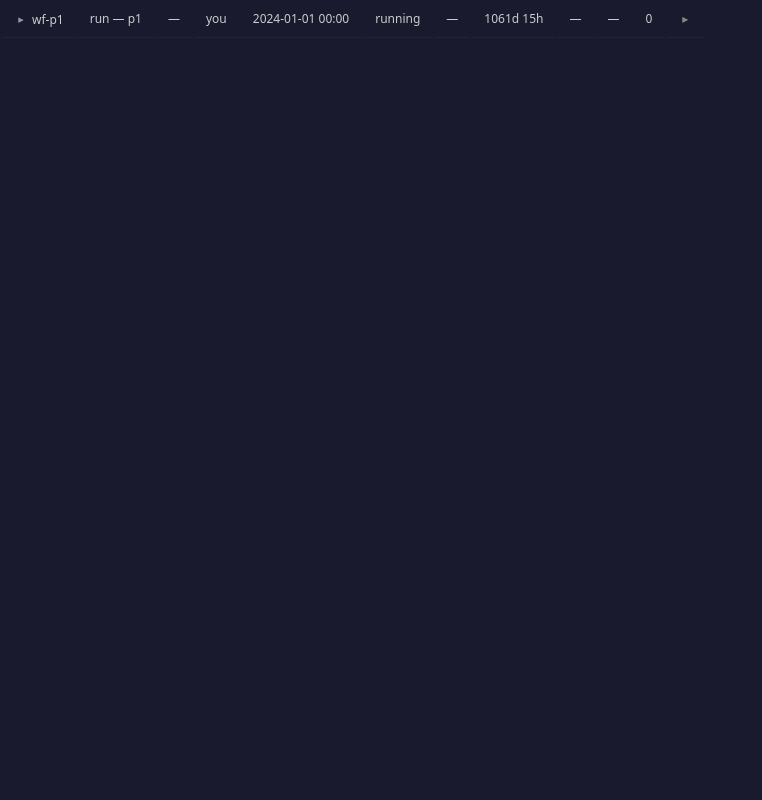
Test: renders load-more only while more children exist, disabled while its page is in flight
Later steps or results of the test are not shown.
Click the button named "Show child runs of run — p1" at (21, 20), box 14,14 -> 28,25
(page scrolled)
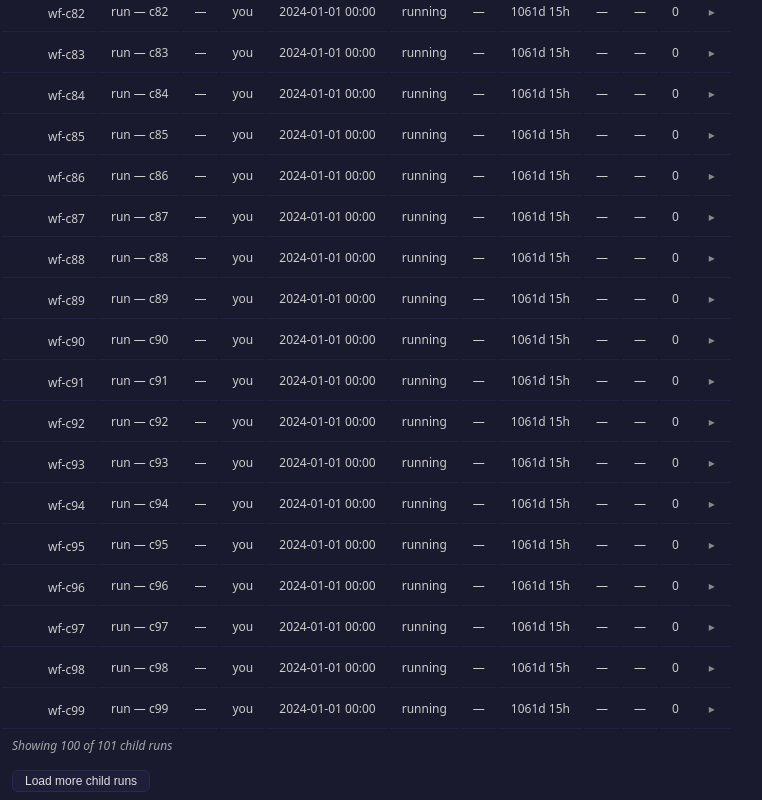
Click the button "Load more child runs" at (81, 780), box 12,770 -> 150,792
(page scrolled)
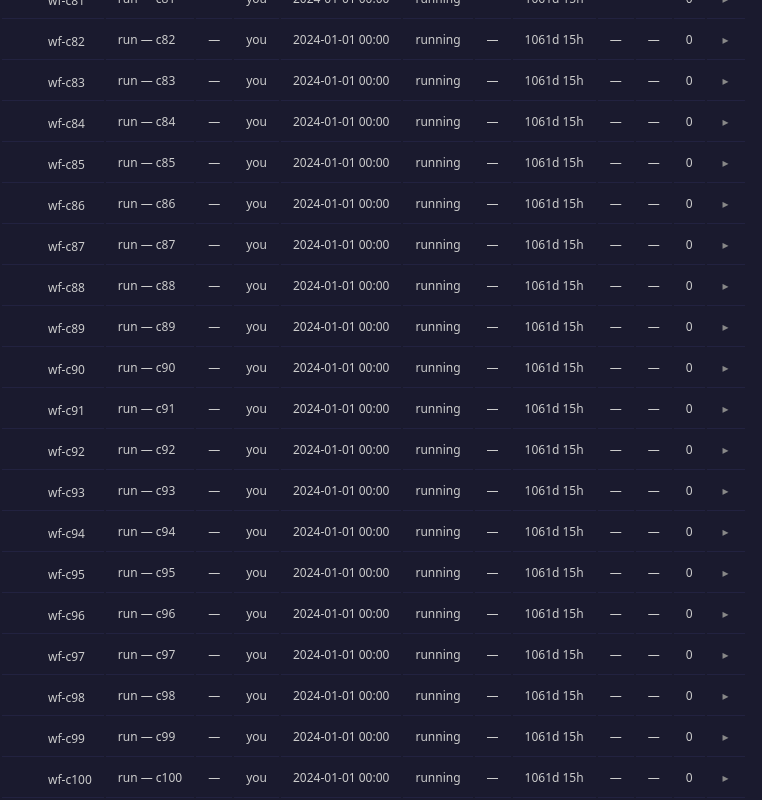
Expected: the text "wf-c100" is shown, 48,770 -> 92,788
Expected: the button "Load more" is gone
Expected: the text "Showing" is gone
